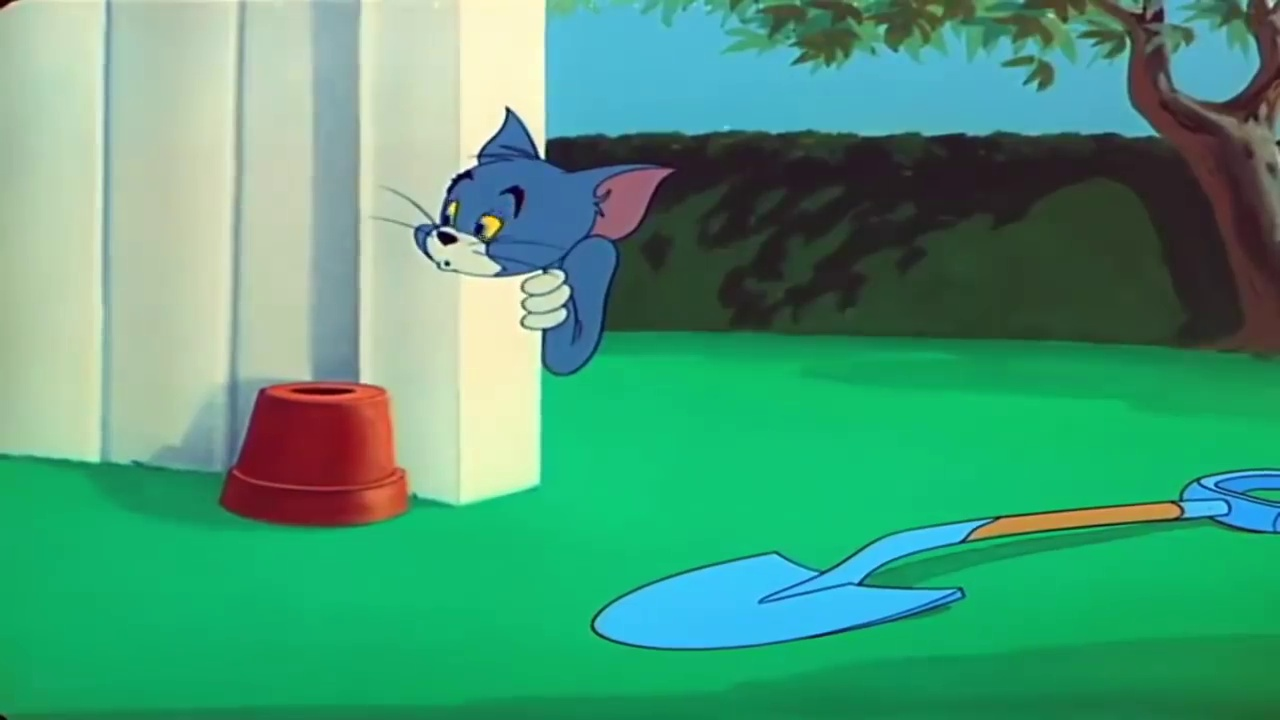tom: (410, 105, 671, 285)
